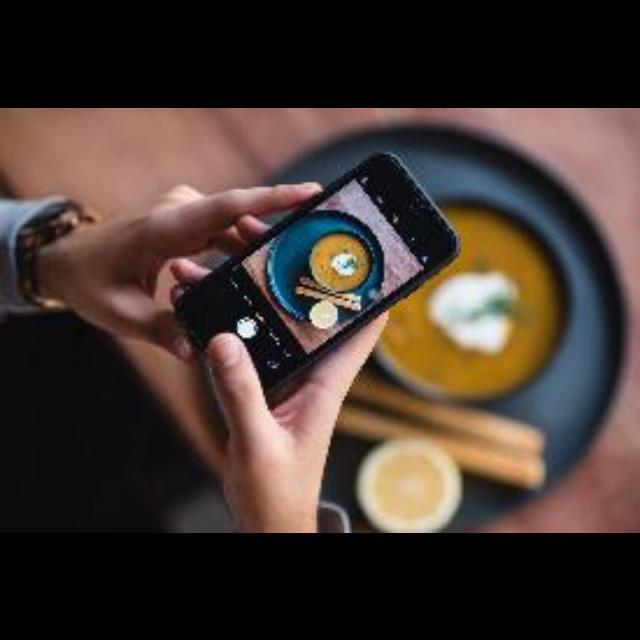phone: (117, 149, 495, 419)
